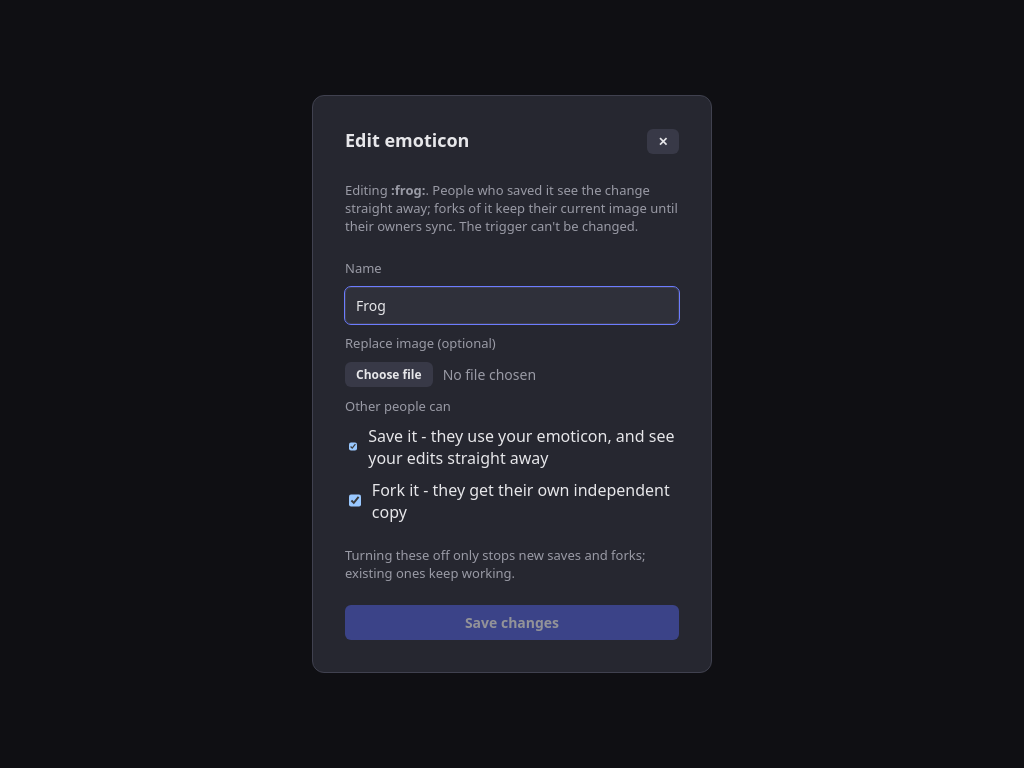
Scenario: EditEmoticonModal › can turn forking off on its own, and un-toggling goes back to nothing to save
Click the checkbox labelled "Fork it - they get their own independent copy": (355, 501) x1=349 y1=494 x2=361 y2=507
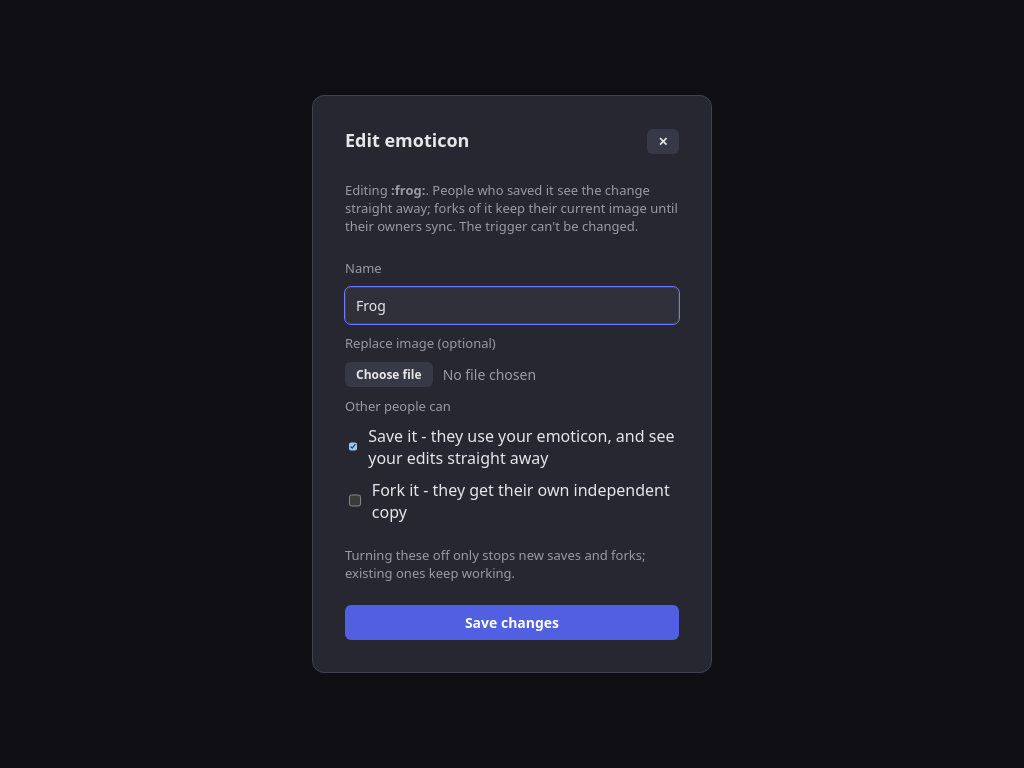
Now the button "Save changes" is enabled, box x1=345 y1=605 x2=679 y2=640
Click the checkbox labelled "Fork it - they get their own independent copy": (355, 501) x1=349 y1=494 x2=361 y2=507
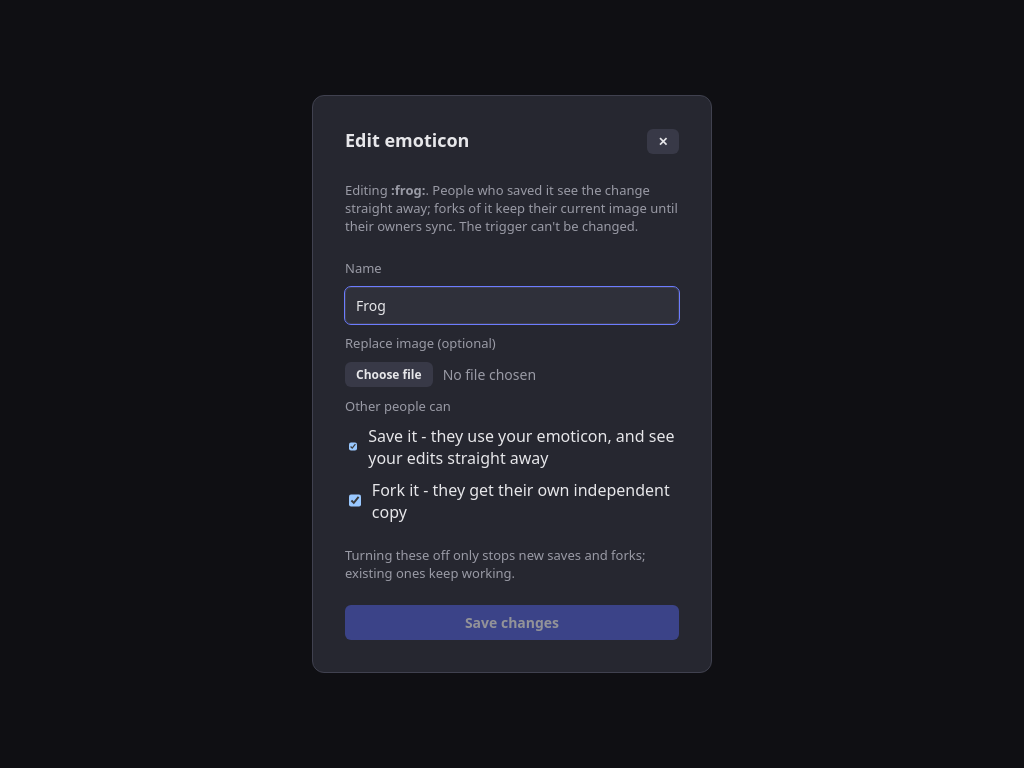
Now the button "Save changes" is disabled, box x1=345 y1=605 x2=679 y2=640
